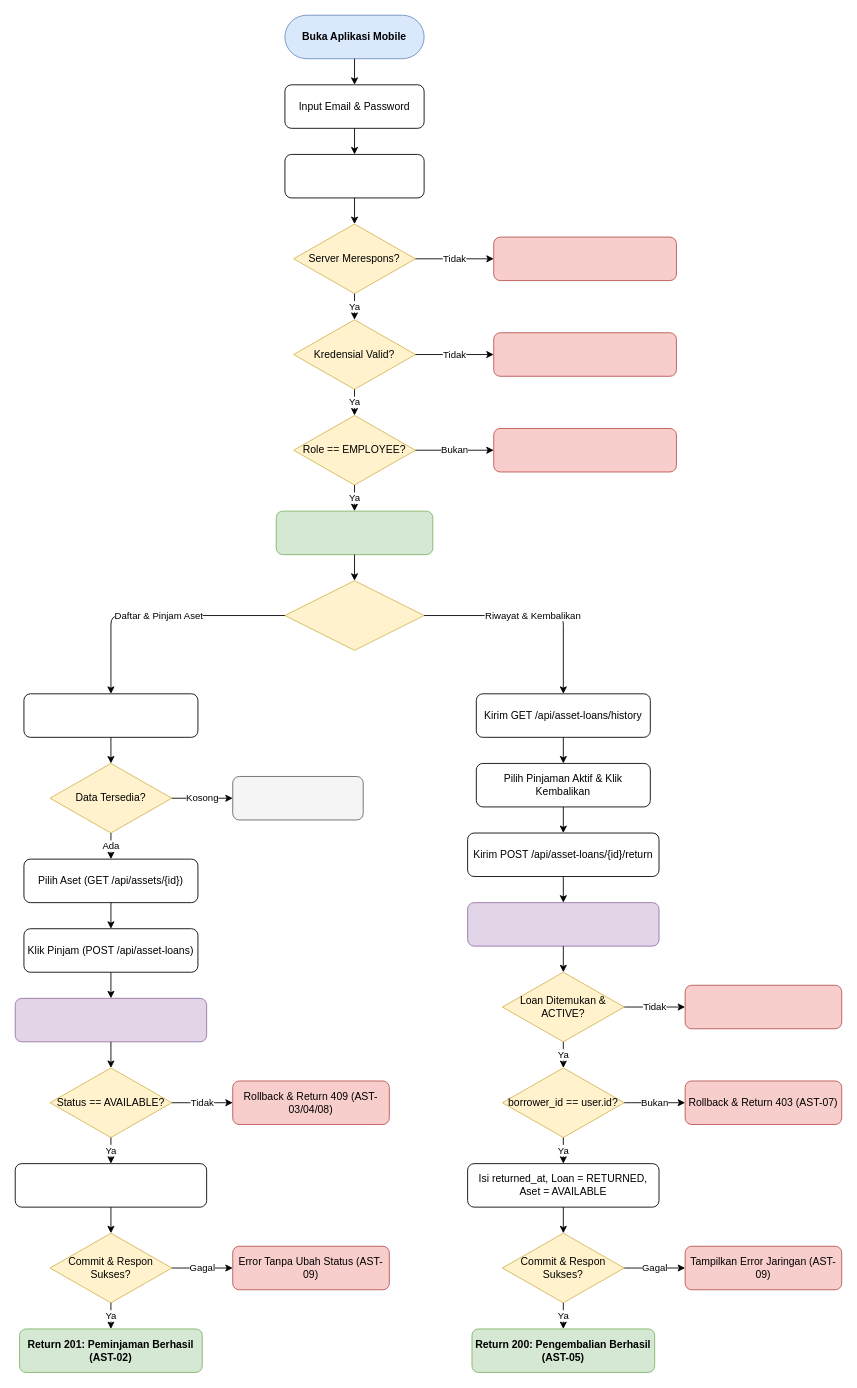
This 857x1388 diagram has some shape labels left out. The shapes that lost their labels are listed below. From the top down, each one's centre as x and y in pixels, then its label:
the point at 354,176: Kirim POST /api/login
the point at 584,258: Tampilkan Error State Tanpa Sukses Palsu (AST-09)
the point at 584,354: Return 401: Email / Password Salah
the point at 584,450: Return 403: Akses Ditolak
the point at 354,532: Simpan Token & Masuk Beranda Mobile
the point at 354,615: Pilih Menu Mobile
the point at 110,715: Kirim GET /api/assets
the point at 297,798: Tampilkan Empty State
the point at 563,924: Server: DB Transaction & Lock Loan + Asset
the point at 110,1019: Server: DB Transaction & Row Lock Asset (AST-08)
the point at 763,1006: Rollback & Return 409 (AST-06)
the point at 110,1185: Update Aset = BORROWED & Insert Loan ACTIVE
